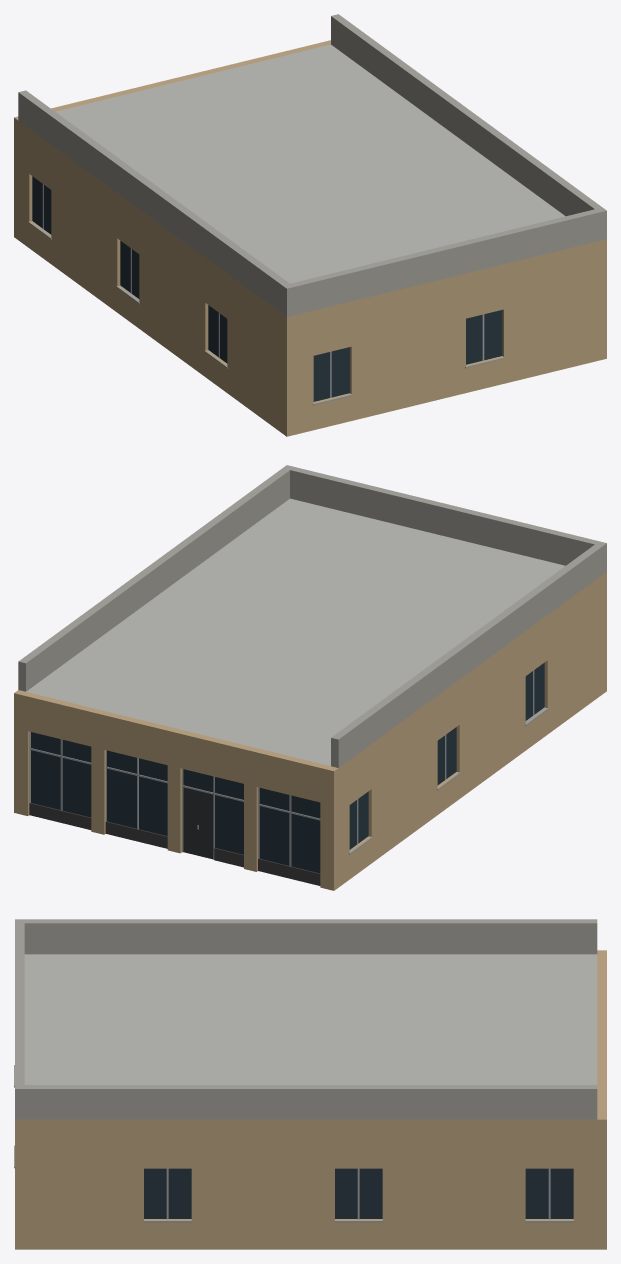
File: tf_dt_brick_1s_w12.glb
3 views of the same model, one above another, from view 1: azimuth 30°, elevation 25°; view 2: azimuth 150°, elevation 25°; view 3: azimuth 270°, elevation 25° (orthographic). The views are drawn at different scales.
Visible parts, largest first — view 1: tf_dt_brick_1s_w12-col; view 2: tf_dt_brick_1s_w12-col; view 3: tf_dt_brick_1s_w12-col.
Part boxes in pixels (x1,y1,x2,y2): tf_dt_brick_1s_w12-col: (14, 14, 606, 436); tf_dt_brick_1s_w12-col: (14, 465, 606, 890); tf_dt_brick_1s_w12-col: (14, 919, 606, 1249).
Bounding box in the file's own units: 12.66 × 5.57 × 18.63.
